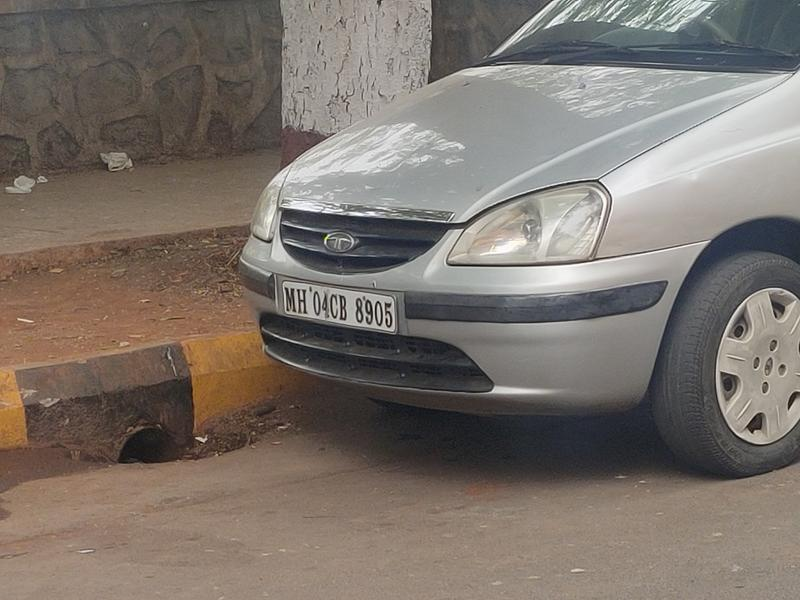license_plate: (267, 272, 407, 341)
